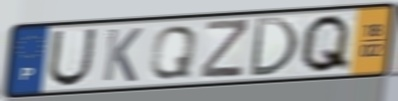D: (247, 15, 302, 78)
K: (100, 26, 145, 84)
Q: (297, 12, 354, 75), (147, 23, 201, 81)
U: (45, 27, 99, 89)
Z: (198, 17, 252, 80)
